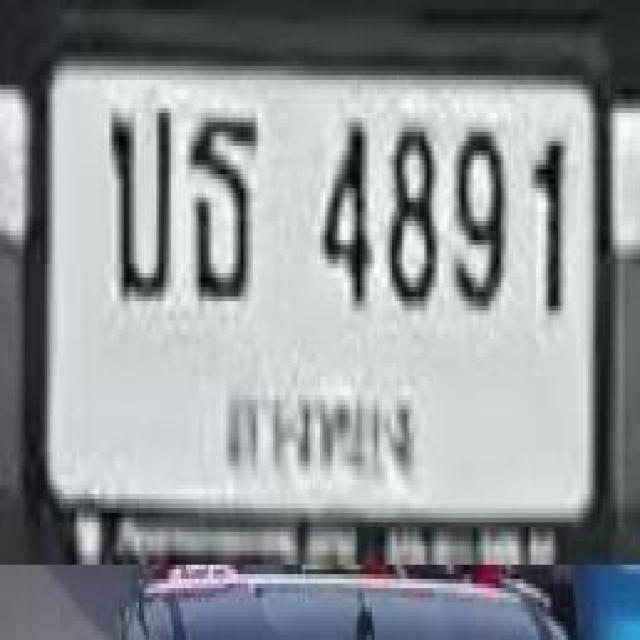license_plate: (34, 37, 608, 530)
